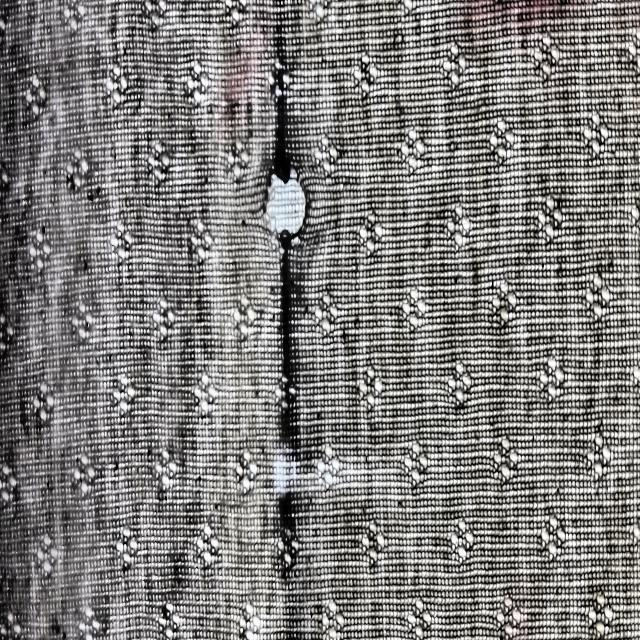cut: (255, 147, 324, 250)
